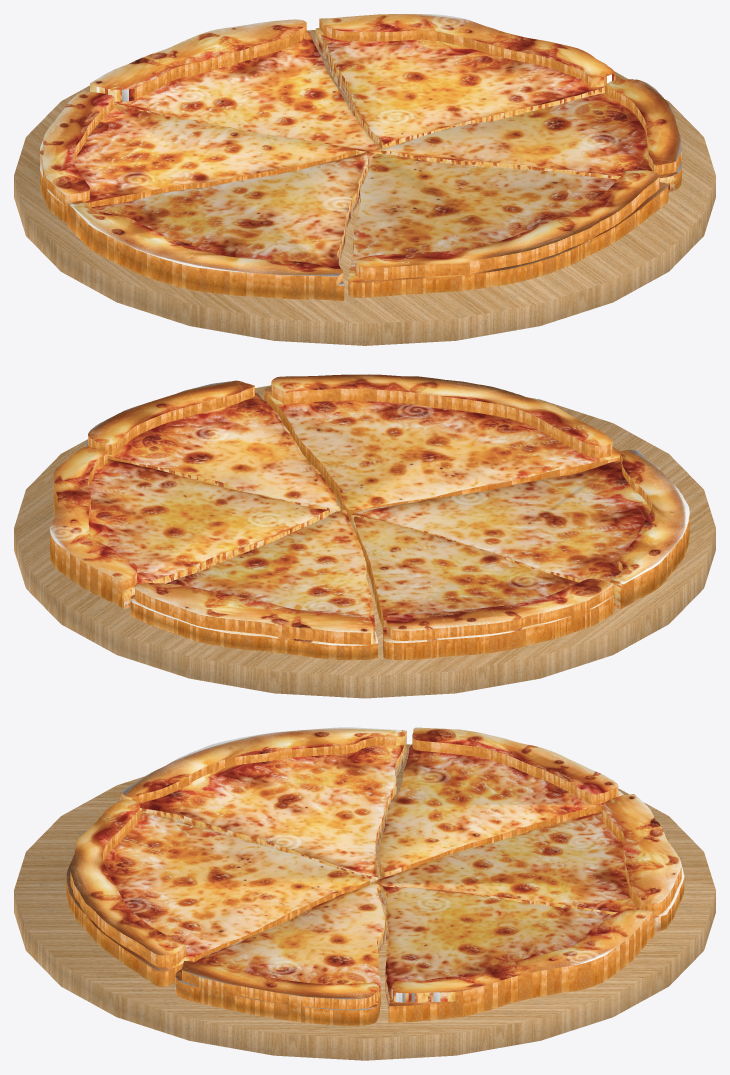
File: pizza.glb
3 views of the same model, one above another, from view 1: azimuth 30°, elevation 25°; view 2: azimuth 150°, elevation 25°; view 3: azimuth 270°, elevation 25° (orthographic).
Parts seen in each view (by area): view 1: Material2 (×4); view 2: Material2 (×4); view 3: Material2 (×4).
Part boxes in pixels (box(x1,y1,x2,y2)): Material2 (×4): box(14, 14, 715, 345); Material2 (×4): box(14, 374, 715, 698); Material2 (×4): box(14, 727, 715, 1060).
Bounding box in the file's own units: 312 × 24.89 × 312.
5 materials, 4 textured.
